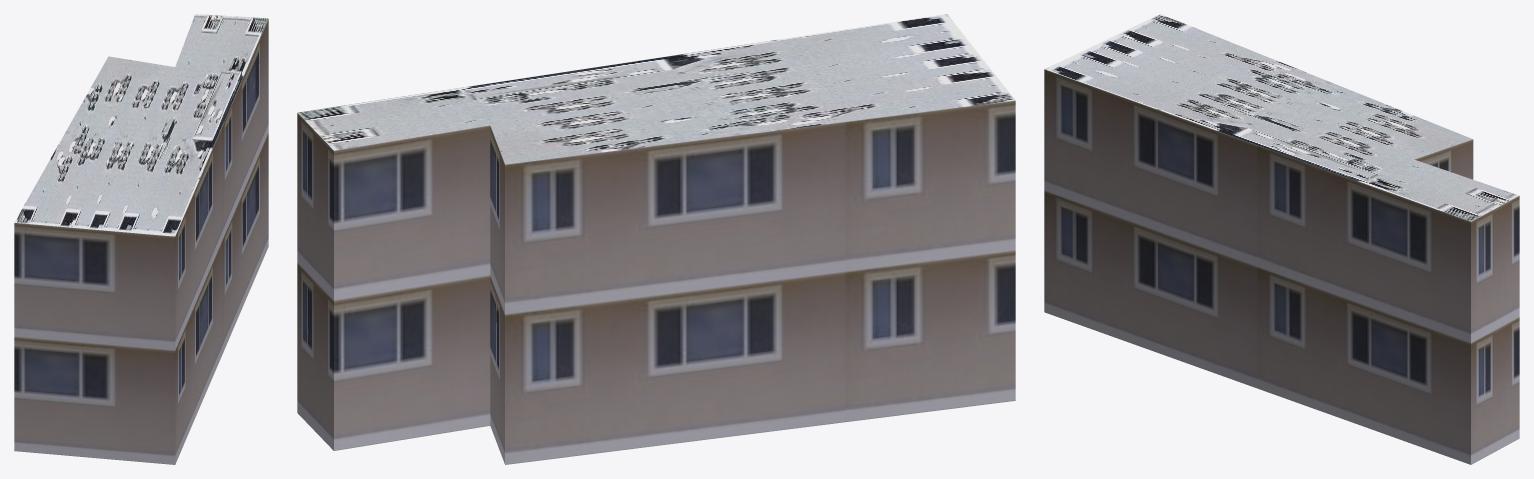
Rendered from ResTex__3949.fbx.
3 views of the same model, side by side, from view 1: azimuth 30°, elevation 25°; view 2: azimuth 150°, elevation 25°; view 3: azimuth 270°, elevation 25° (orthographic). The views are drawn at different scales.
Parts seen in each view (by area): view 1: CityEngineMaterial_21_m, CityEngineMaterial_2_m; view 2: CityEngineMaterial_21_m, CityEngineMaterial_2_m; view 3: CityEngineMaterial_21_m, CityEngineMaterial_2_m.
Boxes of the visible parts, left/top/right/bottom form: CityEngineMaterial_21_m: left=14, top=19, right=268, bottom=464; CityEngineMaterial_2_m: left=14, top=14, right=268, bottom=236; CityEngineMaterial_21_m: left=297, top=100, right=1015, bottom=464; CityEngineMaterial_2_m: left=297, top=14, right=1015, bottom=164; CityEngineMaterial_21_m: left=1044, top=69, right=1519, bottom=464; CityEngineMaterial_2_m: left=1045, top=14, right=1518, bottom=221.
Size of the model in its own units: 11.01 by 6 by 10.63.
2 materials, 2 textured.
